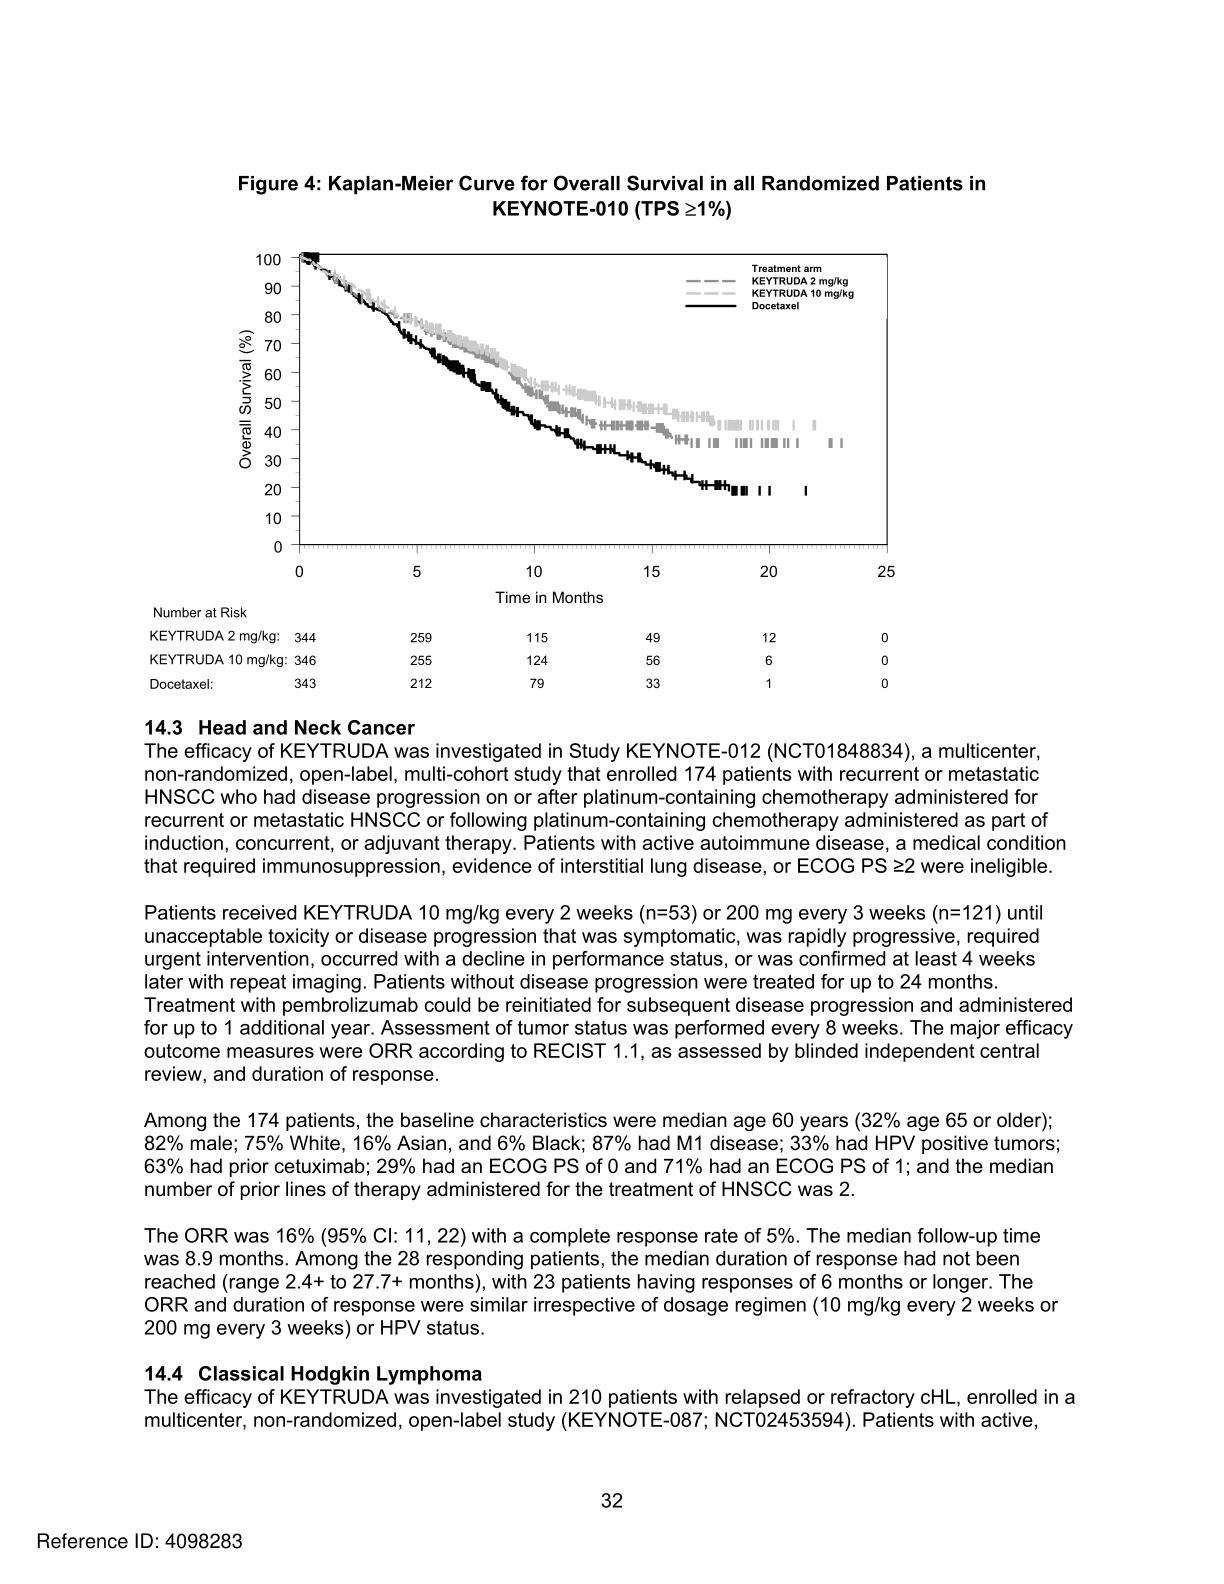nolines: (147, 624, 890, 693)
